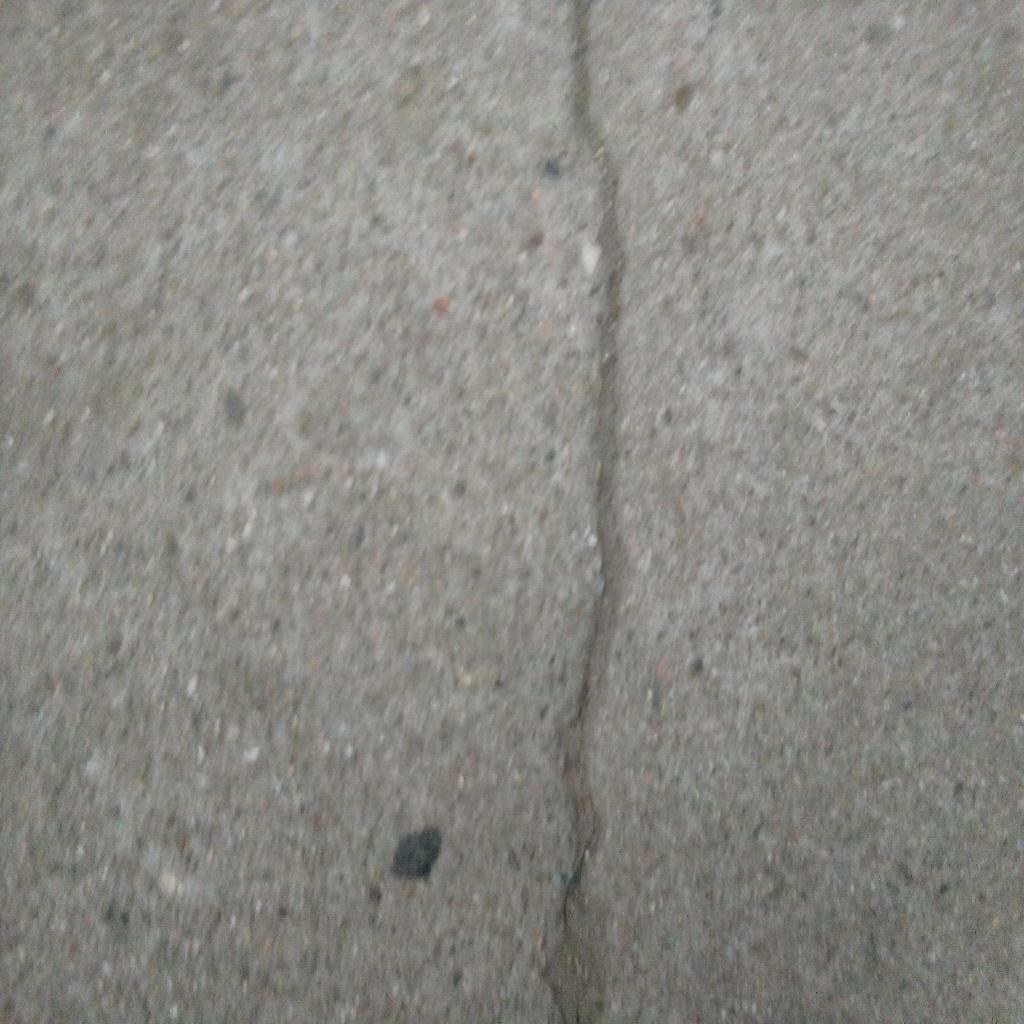Crack: (540, 1, 631, 1024)
